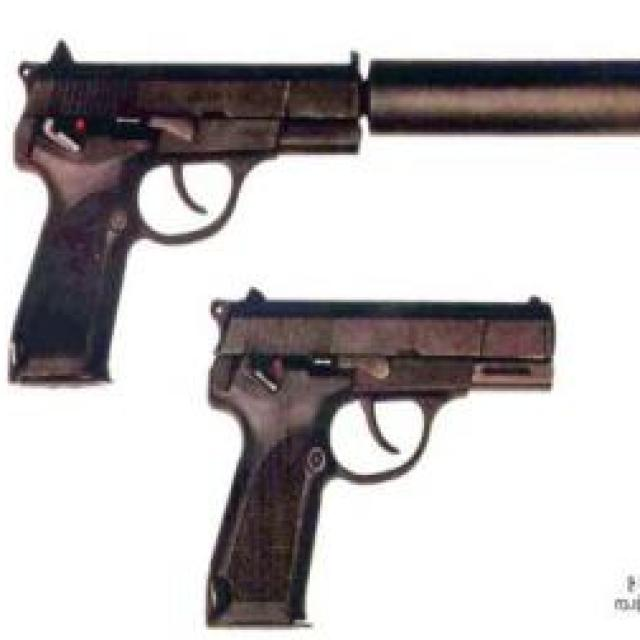pistol: (0, 48, 363, 389), (193, 292, 556, 629)
